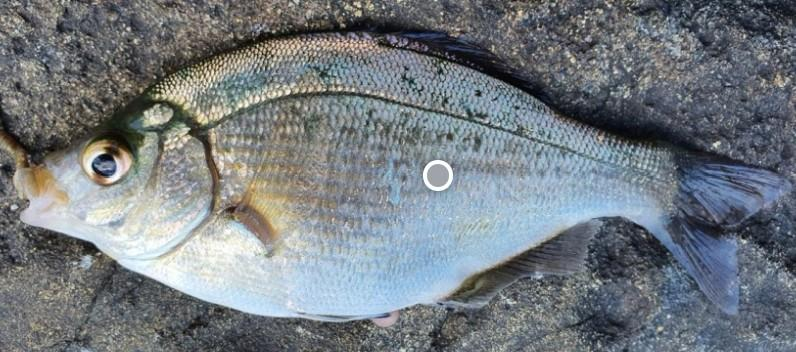fish: (19, 26, 795, 324)
